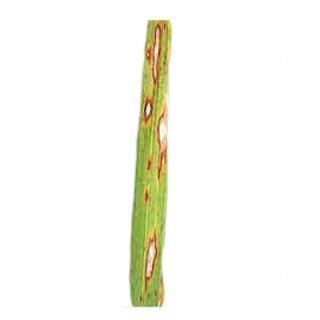Blast: (140, 220, 168, 303), (149, 99, 174, 182), (144, 22, 172, 88)
